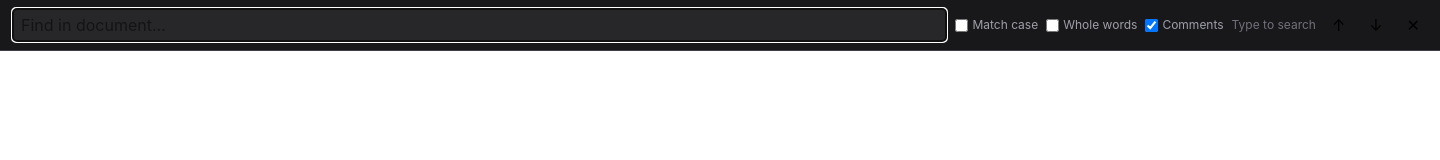
Scenario: SearchBar › searches document text after debounce
In the search field with placeholder "Find in document…": (480, 25) [12, 8, 947, 42], type "hello"
Wait 300 ms
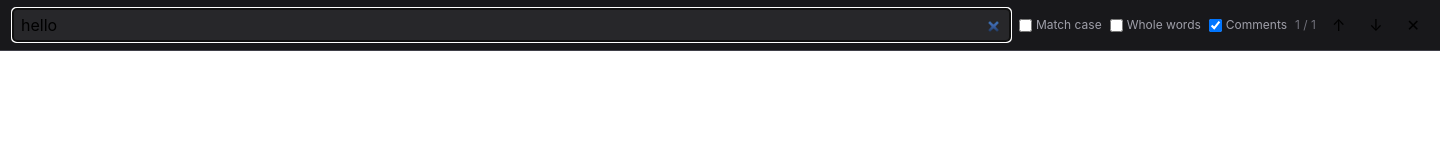
Result: the text "1 / 1" is shown at [1295, 17, 1316, 33]
